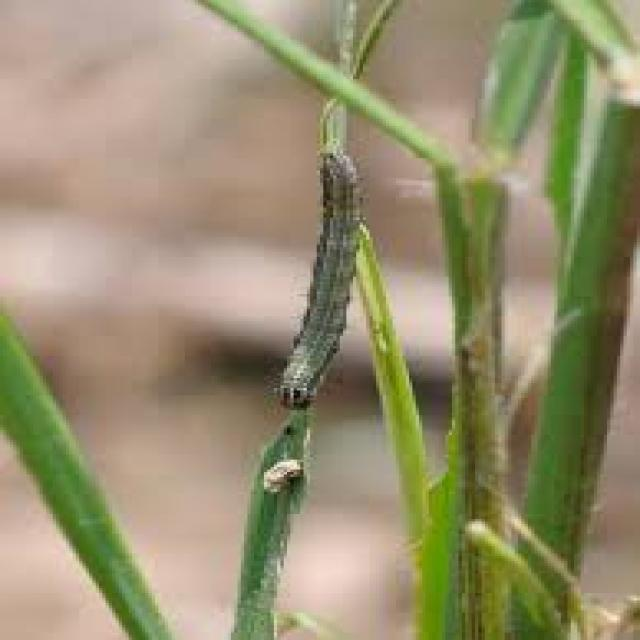Army Worm: (274, 143, 367, 413)
